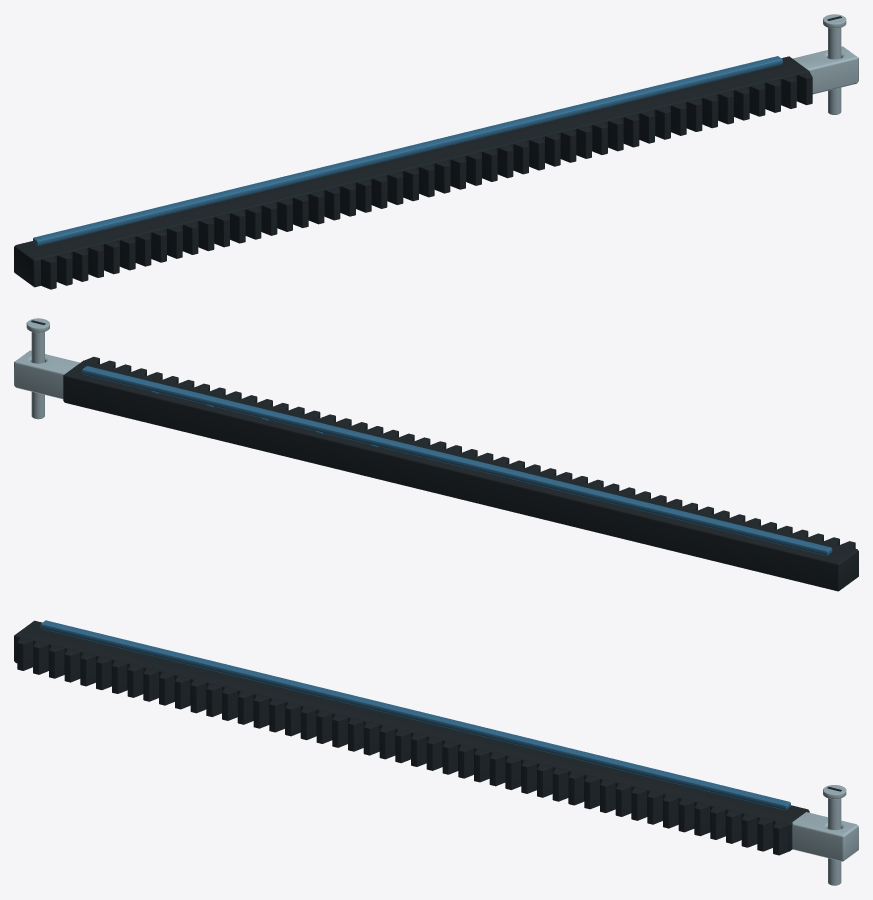
3 renders of one model, top to bottom at view 1: azimuth 30°, elevation 25°; view 2: azimuth 150°, elevation 25°; view 3: azimuth 330°, elevation 25°, orthographic.
Parts seen in each view (by area): view 1: Export_R01_rack_body__Launcher_Graphite_POM__rack_guide_and_, Export_R01_backbone__Performance_Blue_Anodized__backbone, Export_R01_rack_body__Launcher_Brushed_Steel__rack_guide_and, Export_R01_service_pin__Launcher_Brushed_Steel__service_fast; view 2: Export_R01_rack_body__Launcher_Graphite_POM__rack_guide_and_, Export_R01_backbone__Performance_Blue_Anodized__backbone, Export_R01_rack_body__Launcher_Brushed_Steel__rack_guide_and, Export_R01_service_pin__Launcher_Brushed_Steel__service_fast; view 3: Export_R01_rack_body__Launcher_Graphite_POM__rack_guide_and_, Export_R01_backbone__Performance_Blue_Anodized__backbone, Export_R01_rack_body__Launcher_Brushed_Steel__rack_guide_and, Export_R01_service_pin__Launcher_Brushed_Steel__service_fast.
Boxes of the visible parts, <box> form: Export_R01_rack_body__Launcher_Graphite_POM__rack_guide_and_: <box>14,56,812,289</box>; Export_R01_backbone__Performance_Blue_Anodized__backbone: <box>33,56,782,245</box>; Export_R01_rack_body__Launcher_Brushed_Steel__rack_guide_and: <box>792,46,858,94</box>; Export_R01_service_pin__Launcher_Brushed_Steel__service_fast: <box>823,14,846,114</box>; Export_R01_rack_body__Launcher_Graphite_POM__rack_guide_and_: <box>63,356,858,591</box>; Export_R01_backbone__Performance_Blue_Anodized__backbone: <box>82,366,832,555</box>; Export_R01_rack_body__Launcher_Brushed_Steel__rack_guide_and: <box>14,350,79,399</box>; Export_R01_service_pin__Launcher_Brushed_Steel__service_fast: <box>26,318,49,419</box>; Export_R01_rack_body__Launcher_Graphite_POM__rack_guide_and_: <box>14,620,809,855</box>; Export_R01_backbone__Performance_Blue_Anodized__backbone: <box>40,620,790,810</box>; Export_R01_rack_body__Launcher_Brushed_Steel__rack_guide_and: <box>792,812,858,861</box>; Export_R01_service_pin__Launcher_Brushed_Steel__service_fast: <box>823,785,846,885</box>.
Bounding box in the file's own units: 2.42 × 0.2635 × 0.1371.
